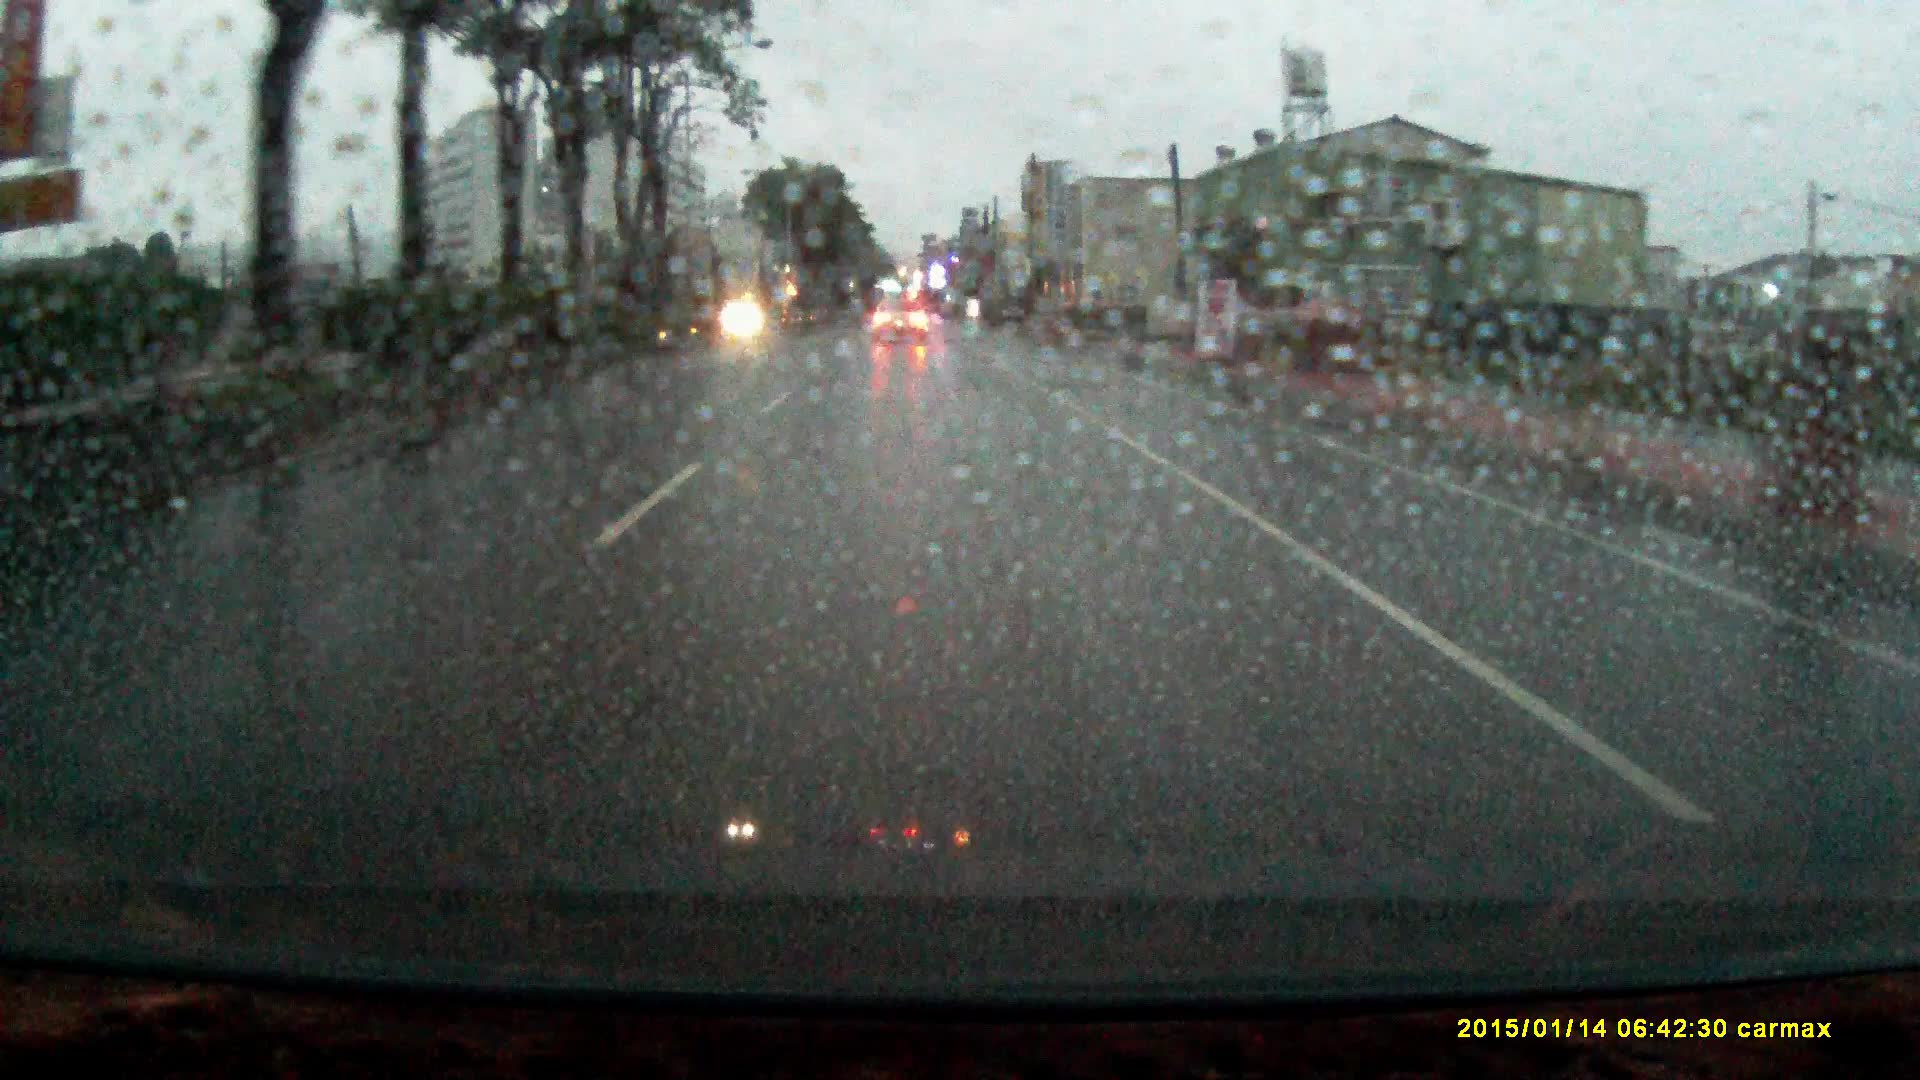vehicle: (873, 299, 931, 343)
